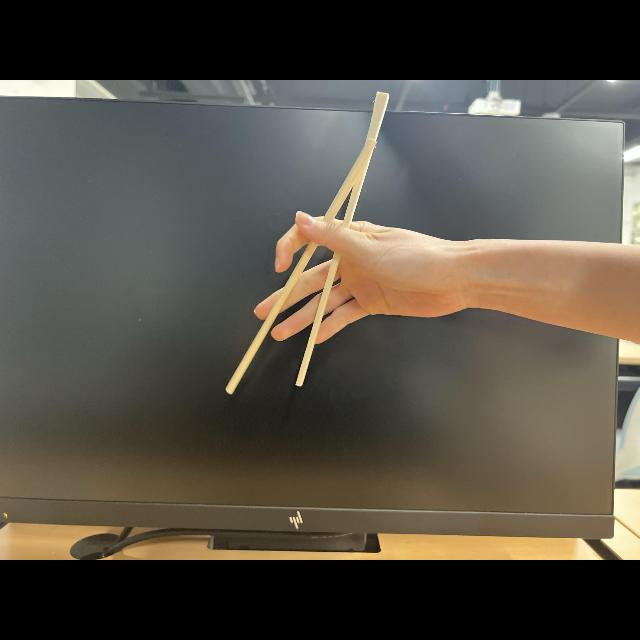stick: (226, 118, 380, 394)
